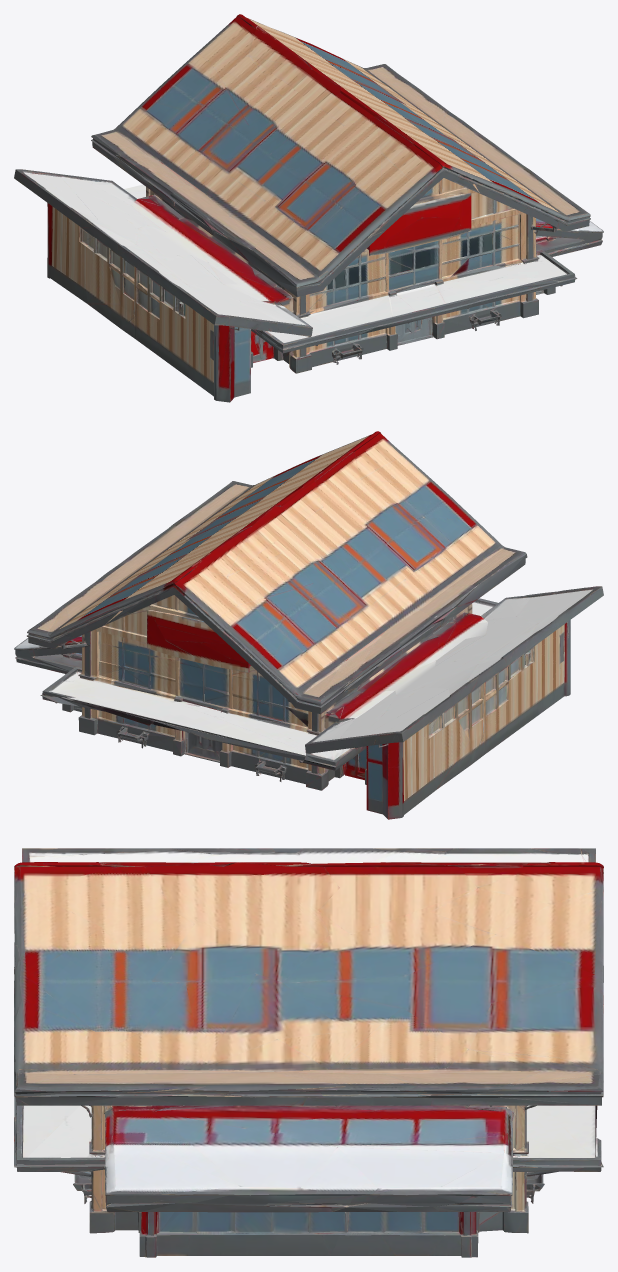
The model's file is lift_hall.glb.
The picture shows the model from 3 angles, top to bottom: view 1: azimuth 30°, elevation 25°; view 2: azimuth 150°, elevation 25°; view 3: azimuth 270°, elevation 25°; orthographic projection. The views are drawn at different scales.
Bounding box in the file's own units: 1.9 × 0.8672 × 1.62.
1 material, 1 textured.
